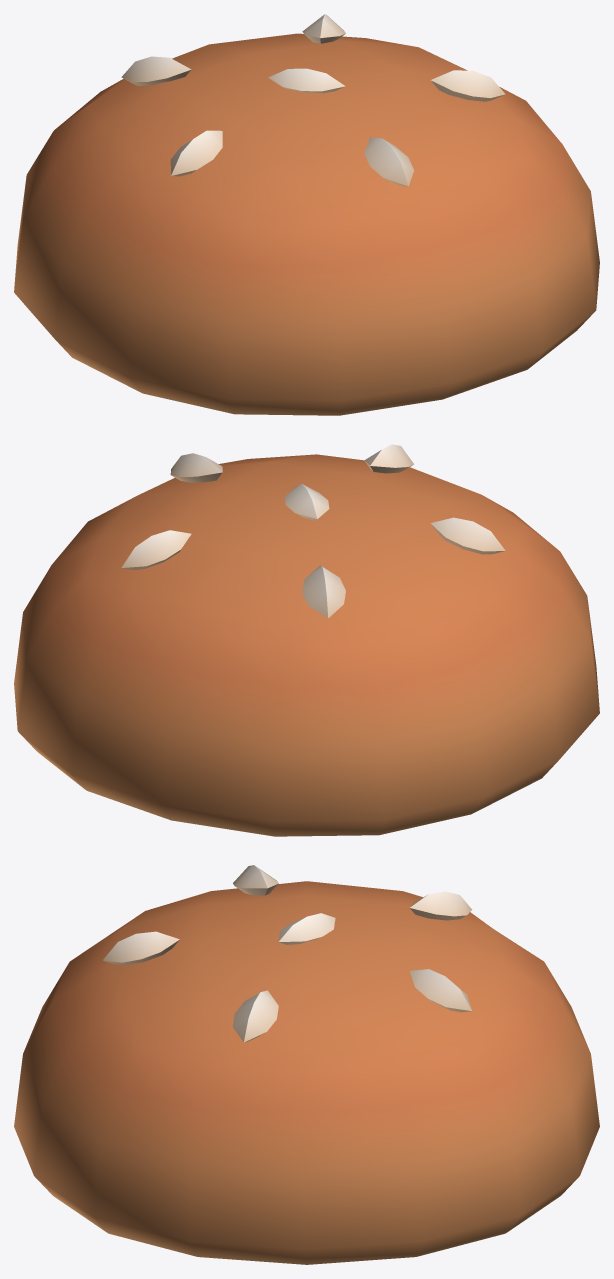
The model's file is food_ingredient_bun_top.obj.
3 renders of one model, top to bottom at view 1: azimuth 30°, elevation 25°; view 2: azimuth 150°, elevation 25°; view 3: azimuth 270°, elevation 25°, orthographic.
Visible parts, largest first — view 1: food_ingredient_bun_top_Cube.012; view 2: food_ingredient_bun_top_Cube.012; view 3: food_ingredient_bun_top_Cube.012.
Part boxes in pixels (x1=…): food_ingredient_bun_top_Cube.012: x1=14, y1=14, x2=599, y2=415; food_ingredient_bun_top_Cube.012: x1=14, y1=444, x2=599, y2=836; food_ingredient_bun_top_Cube.012: x1=14, y1=865, x2=599, y2=1264.
Size of the model in its own units: 0.7 by 0.3072 by 0.7.
Materials: 1 (1 with a texture image).
